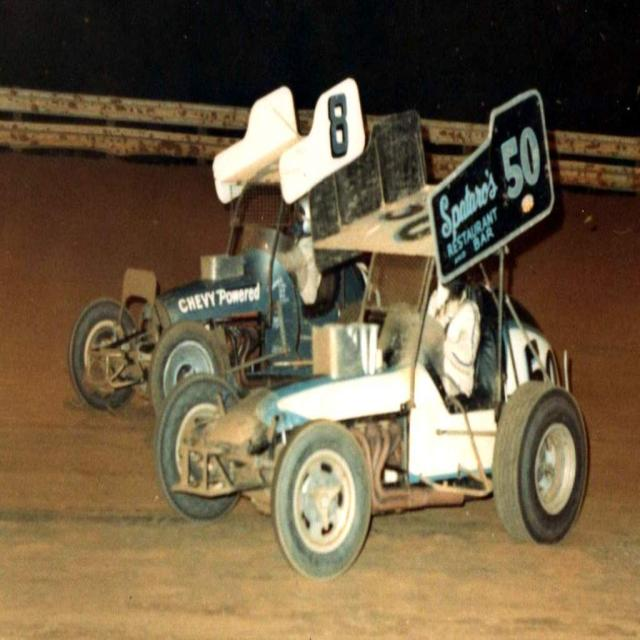car: (157, 90, 587, 582)
